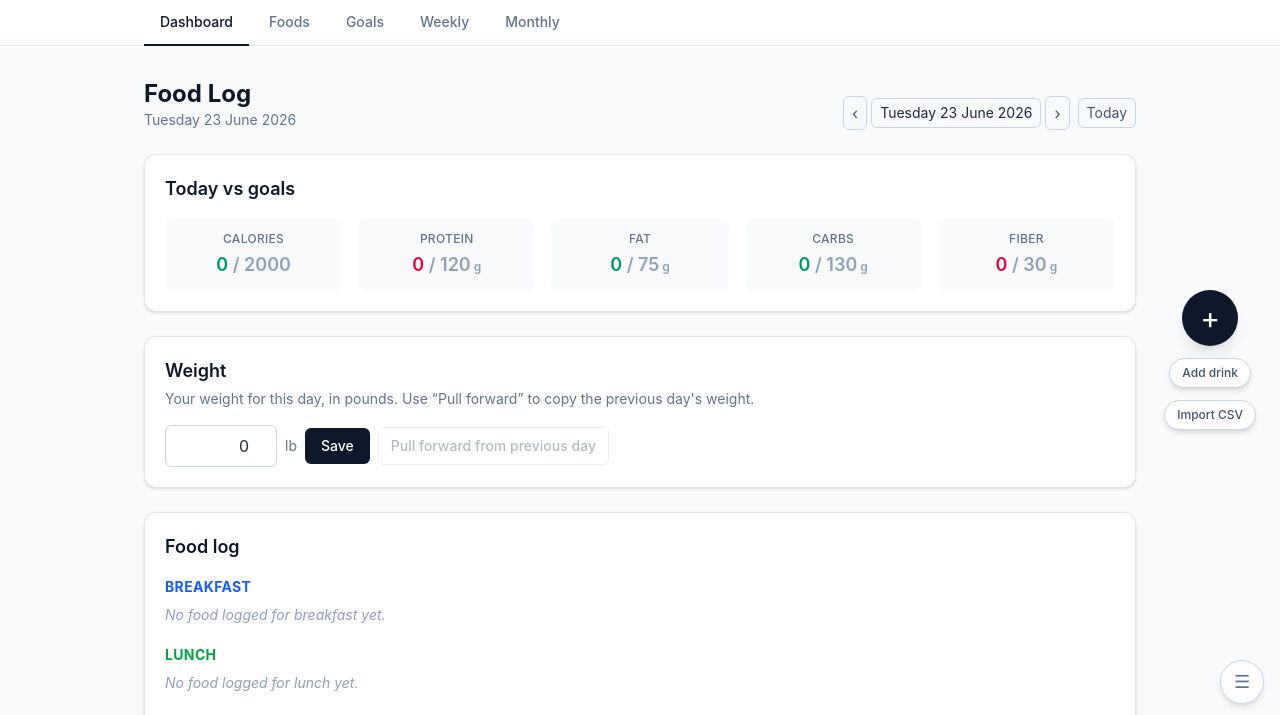
Test case: App tab navigation › reflects a goal change made on the Goals tab in the dashboard summary
This screenshot has width=1280, height=715.
Click the tab "Goals": click(365, 23) top-left (330, 0), bottom-right (400, 46)
(page scrolled)
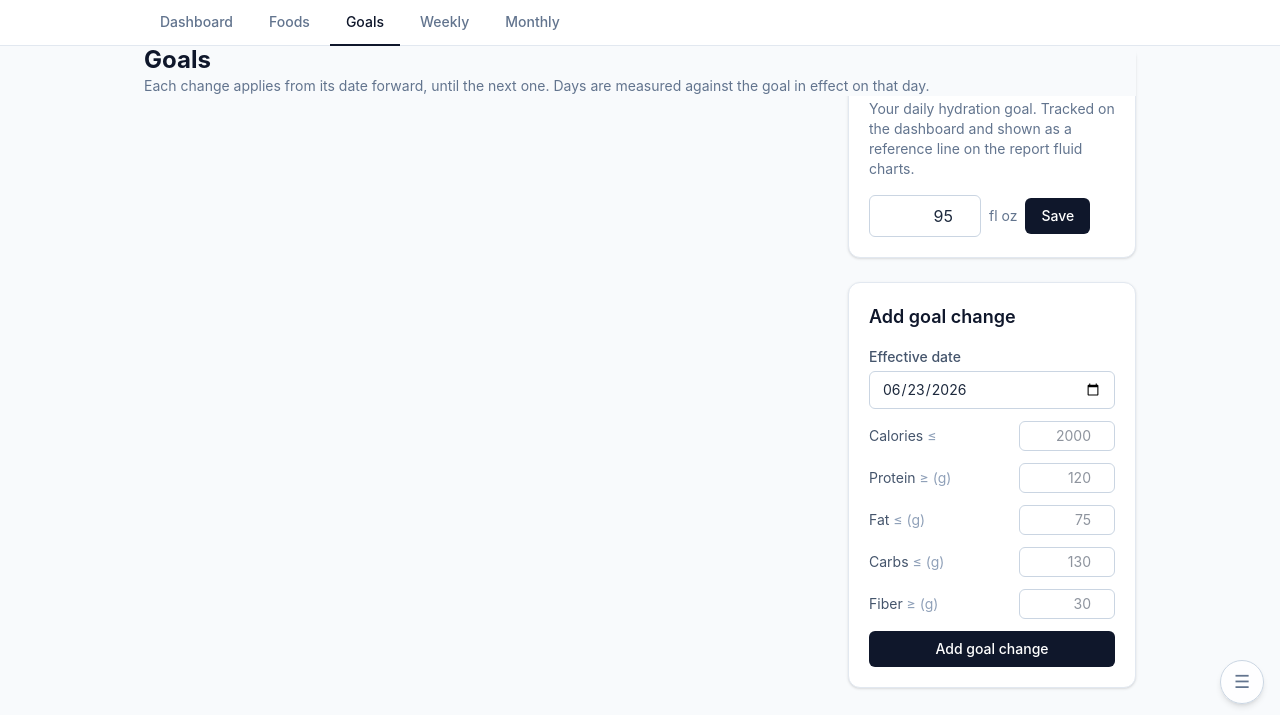
In the number field named "Calories goal": (1067, 436) top-left (1019, 421), bottom-right (1115, 451), type "1800"
In the number field named "Protein goal": (1067, 478) top-left (1019, 463), bottom-right (1115, 493), type "160"
In the number field named "Fat goal": (1067, 520) top-left (1019, 505), bottom-right (1115, 535), type "60"
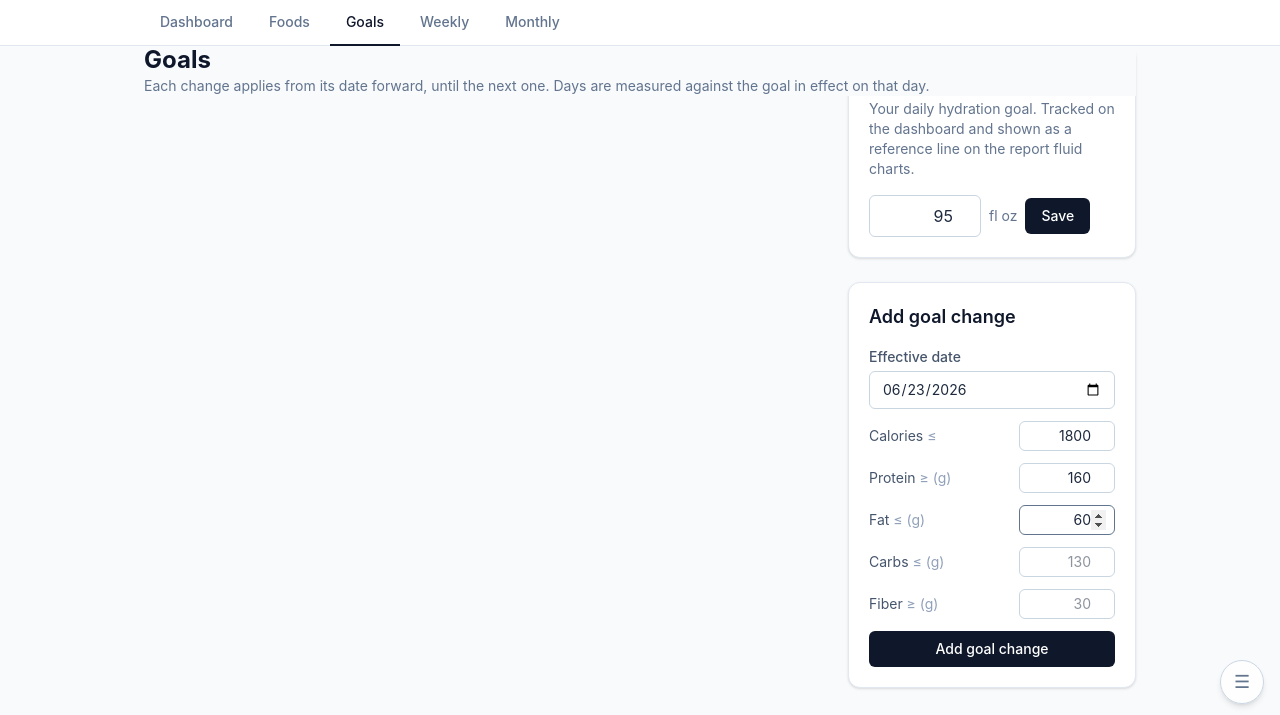
In the number field named "Carbs goal": (1067, 562) top-left (1019, 547), bottom-right (1115, 577), type "120"
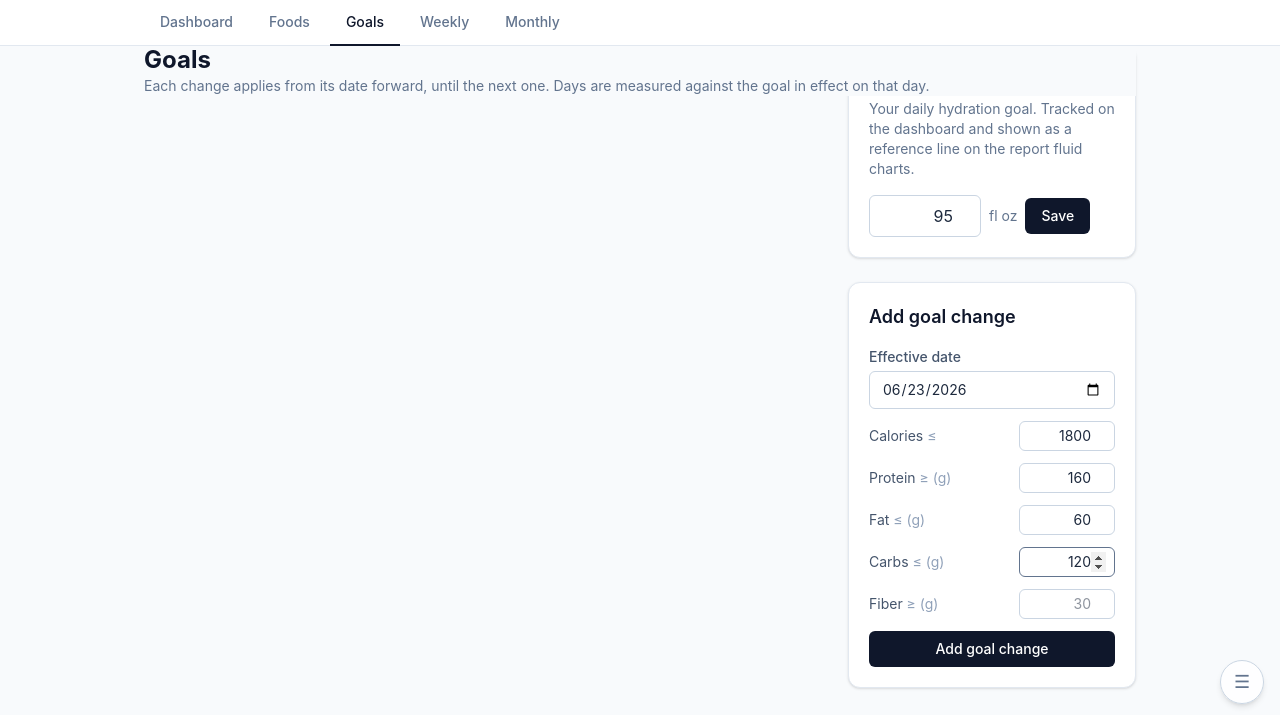
In the number field named "Fiber goal": (1067, 604) top-left (1019, 589), bottom-right (1115, 619), type "40"
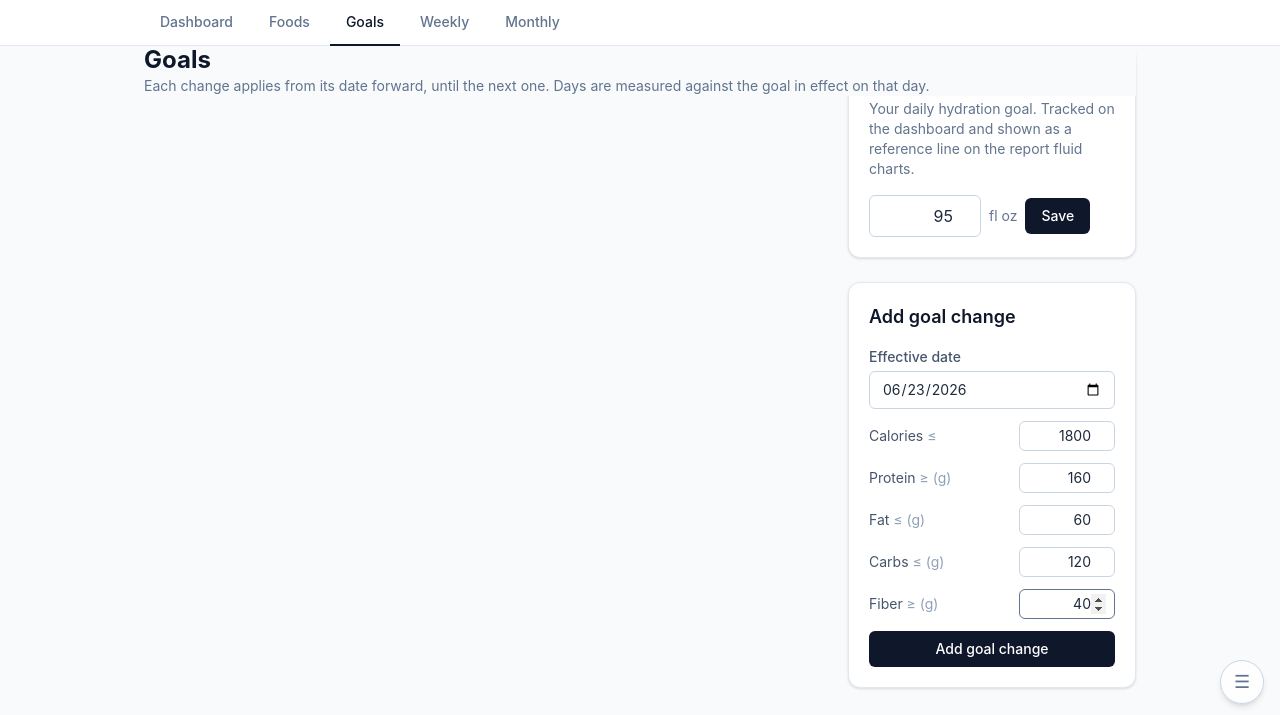
Click the button "Add goal change": click(992, 649) top-left (869, 631), bottom-right (1115, 667)
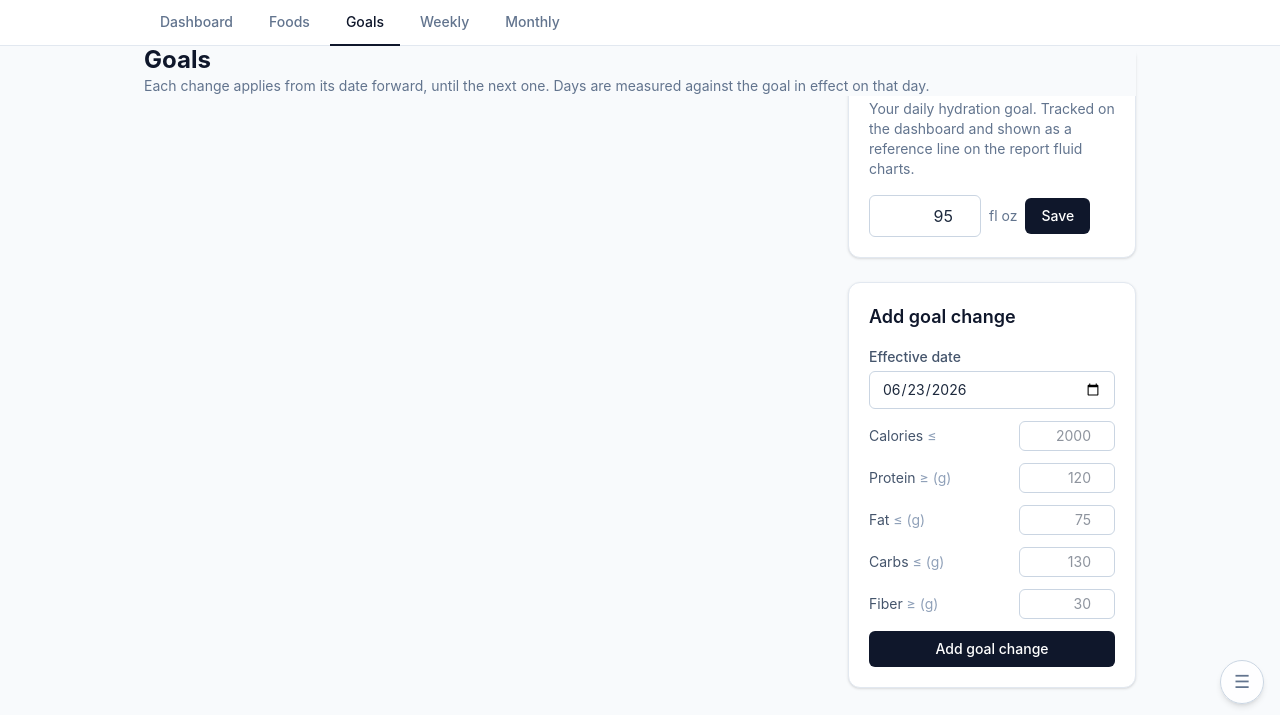
Back on the dashboard (landed on the same day), the summary uses the new goal.
Click the tab "Dashboard": click(196, 23) top-left (144, 0), bottom-right (249, 46)
(page scrolled)
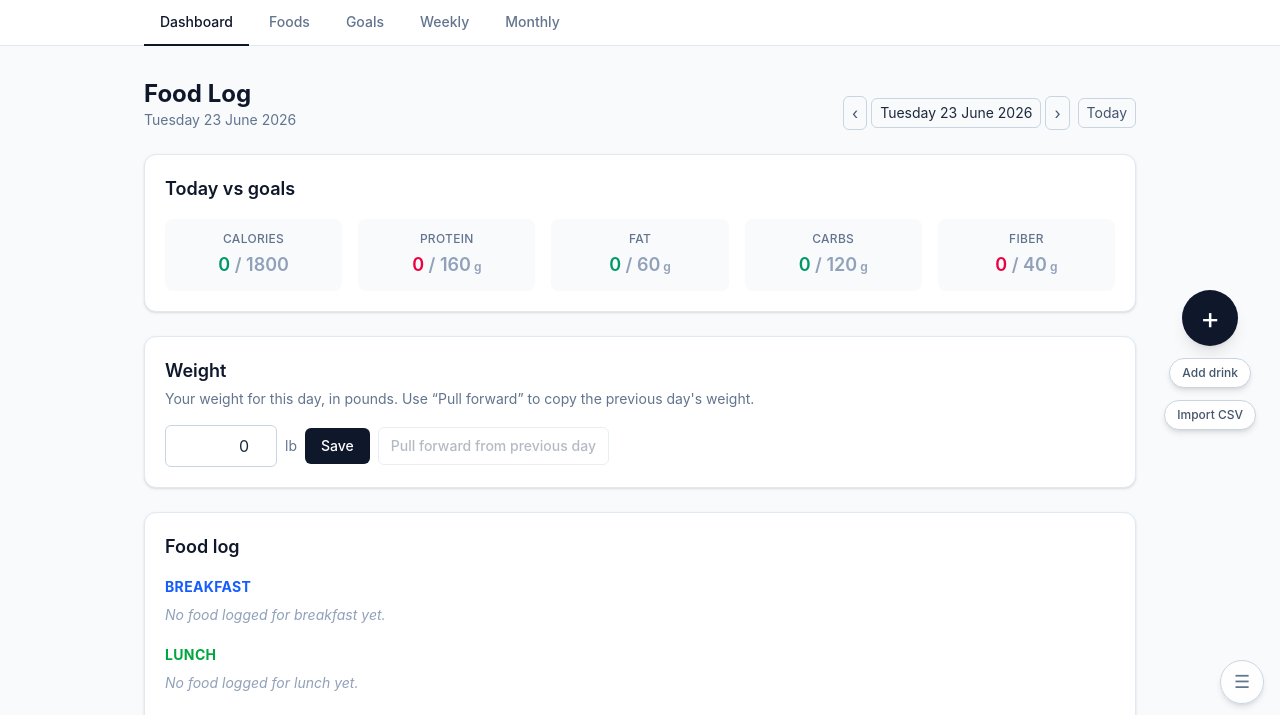
Expected: the element named "Protein consumed" shows "/ 160", top-left (412, 254), bottom-right (481, 275)
